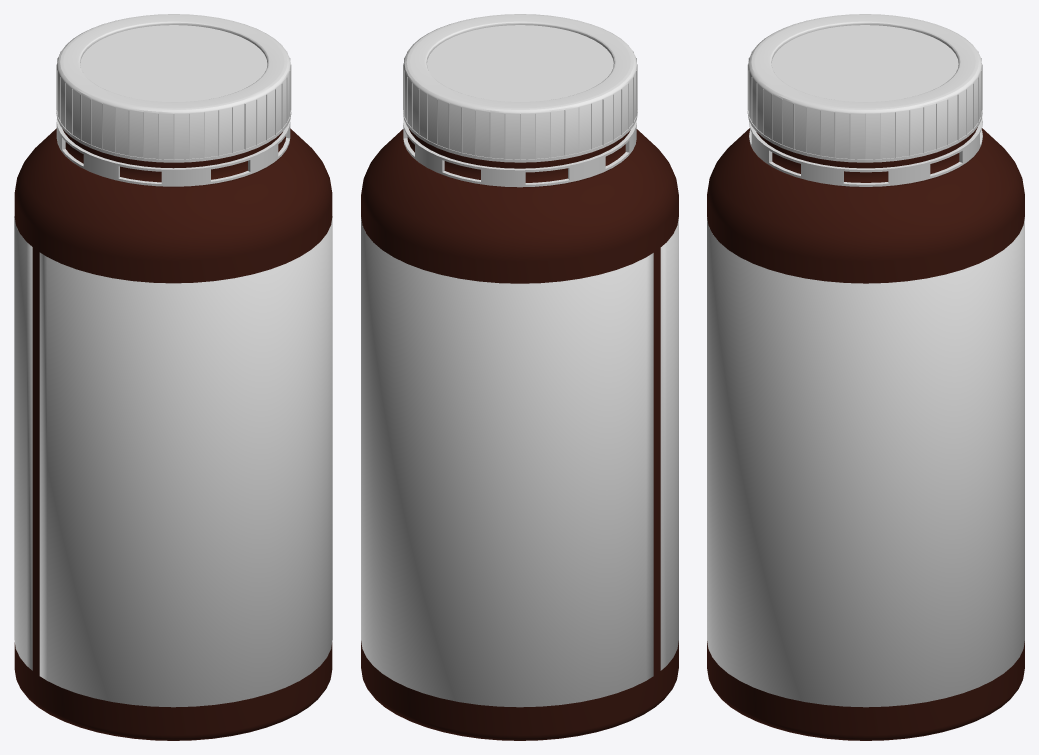
File: bottle-hf.glb
3 renders of one model, left to right at view 1: azimuth 30°, elevation 25°; view 2: azimuth 150°, elevation 25°; view 3: azimuth 270°, elevation 25°, orthographic.
Visible parts, largest first — view 1: paperLabel, bottle-hf, lid, lid2; view 2: paperLabel, bottle-hf, lid, lid2; view 3: paperLabel, bottle-hf, lid, lid2.
Boxes of the visible parts, box(x1,y1,x2,y2) form: paperLabel: box(14, 216, 332, 707); bottle-hf: box(14, 128, 332, 740); lid: box(56, 14, 291, 162); lid2: box(56, 118, 290, 186); paperLabel: box(361, 217, 678, 707); bottle-hf: box(361, 129, 678, 740); lid: box(403, 14, 637, 162); lid2: box(403, 119, 636, 187); paperLabel: box(707, 217, 1024, 707); bottle-hf: box(707, 127, 1024, 740); lid: box(747, 14, 982, 162); lid2: box(749, 116, 982, 186).
Size of the model in its own units: 0.068 by 0.1452 by 0.068.
